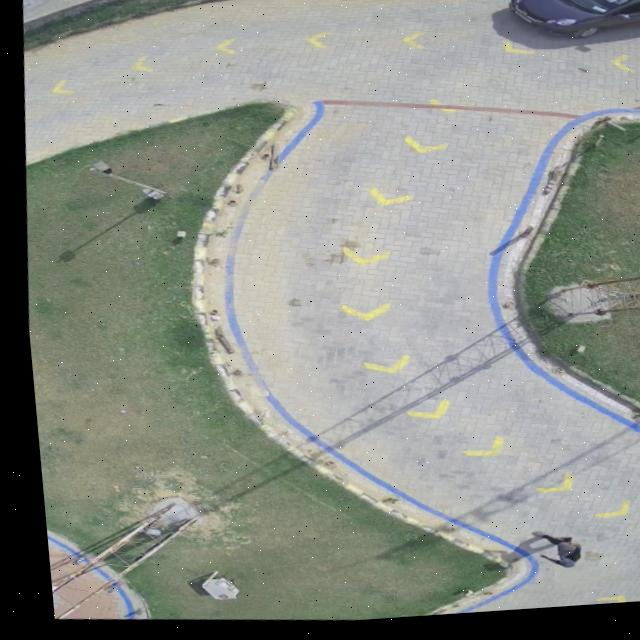car: (494, 0, 640, 51)
